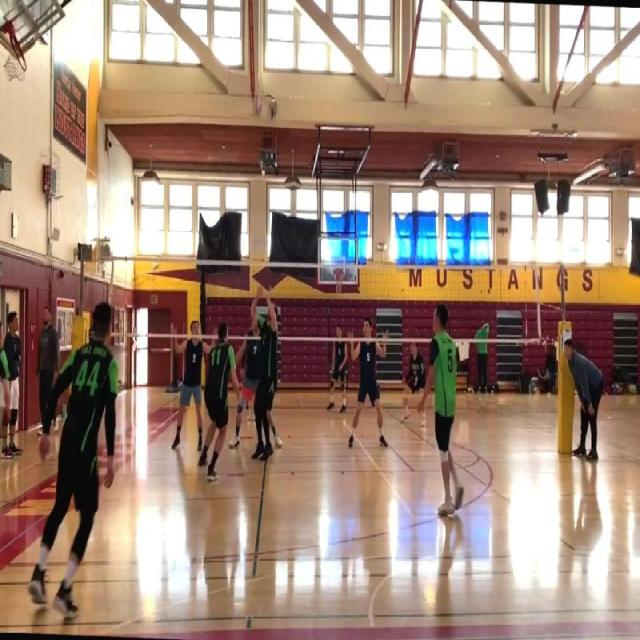volleyball: (253, 98, 263, 115)
